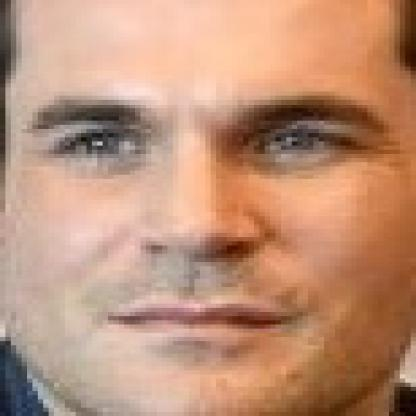male: (6, 0, 410, 412)
